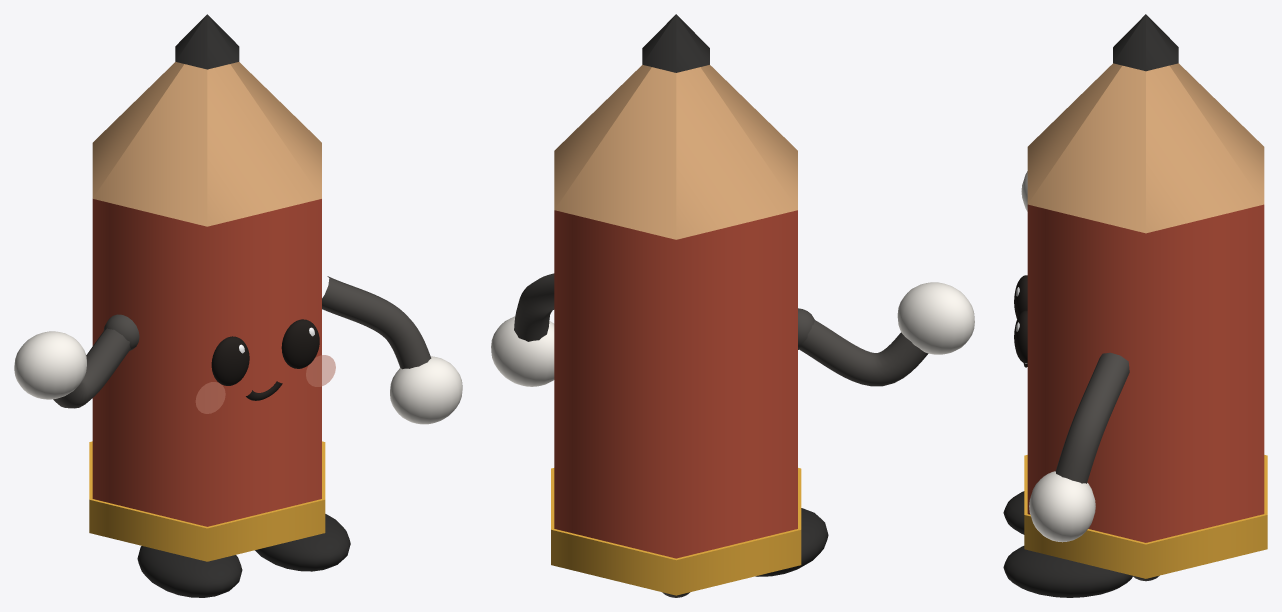
The model's file is pencil.glb.
3 views of the same model, side by side, from view 1: azimuth 30°, elevation 25°; view 2: azimuth 150°, elevation 25°; view 3: azimuth 270°, elevation 25° (orthographic). The views are drawn at different scales.
Parts seen in each view (by area): view 1: pencil, arm (×2), face; view 2: pencil, arm (×2); view 3: pencil, arm, face.
Boxes of the visible parts, x1,y1,x2,y2 form: pencil: (89,14,350,597); arm (×2): (14,276,462,424); face: (195,319,335,413); pencil: (551,14,828,595); arm (×2): (491,273,974,597); pencil: (1003,14,1267,597); arm: (1029,352,1159,581); face: (1014,275,1027,367).
Bounding box in the file's own units: 1.4 × 1.64 × 0.6959.
